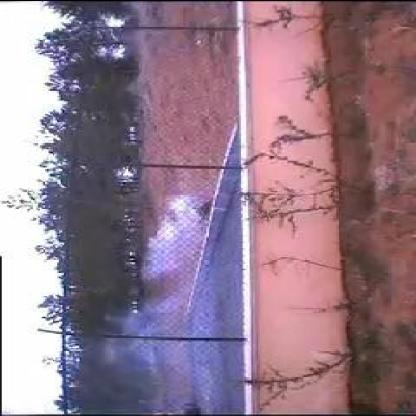-: (110, 193, 242, 383)
